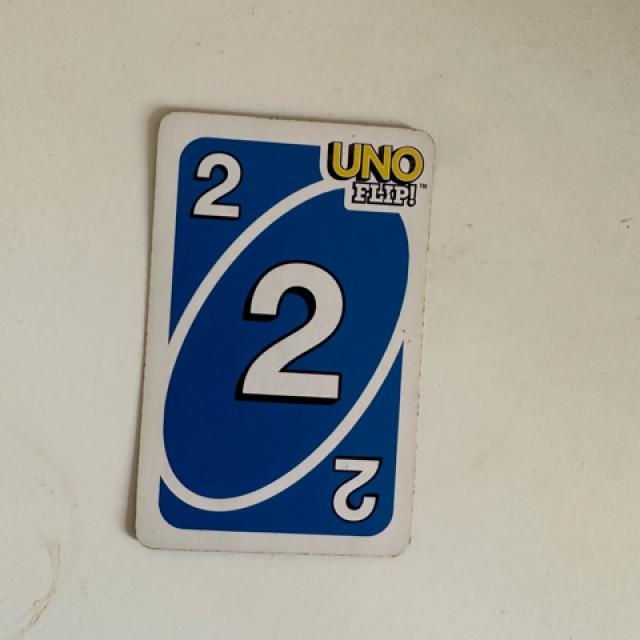lblue-2: (174, 128, 264, 235)
